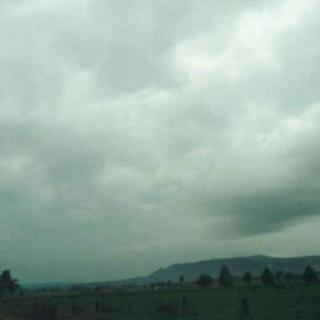Nimbostratus: (0, 0, 320, 248)
